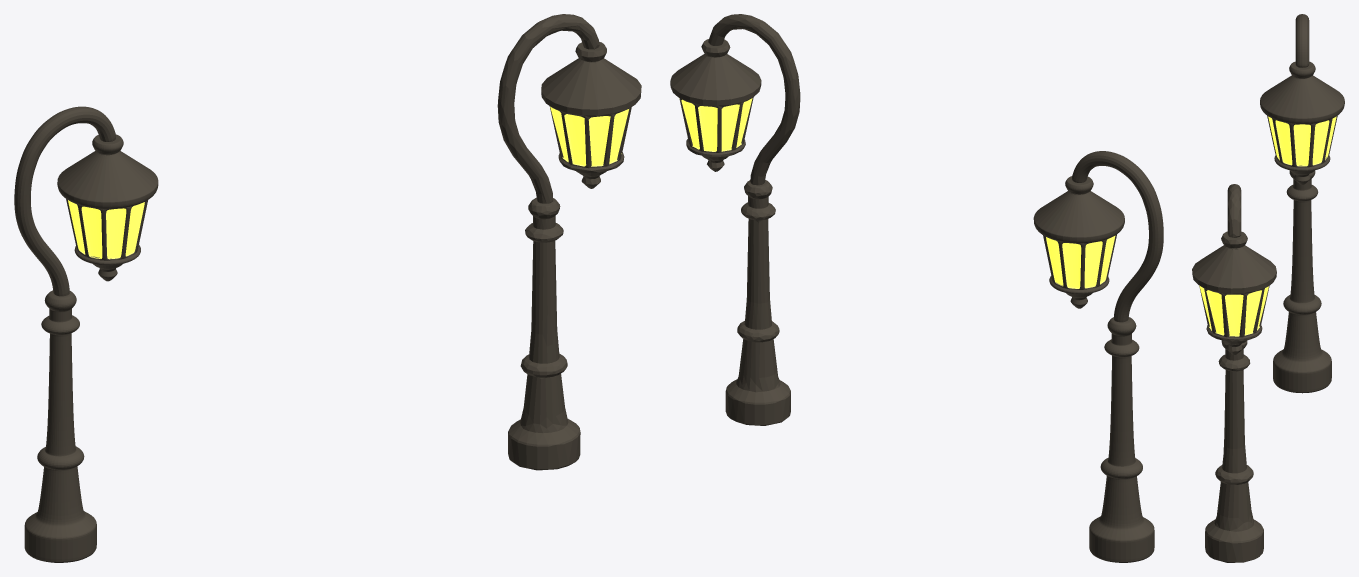
Rendered from stylized_street_lamp__low_poly_game_asset.glb.
3 renders of one model, left to right at view 1: azimuth 30°, elevation 25°; view 2: azimuth 150°, elevation 25°; view 3: azimuth 270°, elevation 25°, orthographic. The views are drawn at different scales.
Visible parts, largest first — view 1: lamp_1, stand.001_5, lamp.001_3, pole.001_4; view 2: lamp_1, stand.001_5, lamp.001_3, pole.001_4; view 3: lamp_1, stand.001_5, lamp.001_3, pole.001_4.
Boxes of the visible parts, x1,y1,x2,y2 form: lamp_1: (497, 14, 641, 470); stand.001_5: (24, 290, 96, 562); lamp.001_3: (57, 134, 158, 281); pole.001_4: (14, 106, 115, 296); lamp_1: (670, 14, 800, 425); stand.001_5: (1089, 317, 1154, 562); lamp.001_3: (1033, 176, 1124, 308); pole.001_4: (1072, 151, 1163, 322); lamp_1: (1192, 184, 1276, 562); stand.001_5: (1273, 170, 1331, 393); lamp.001_3: (1260, 61, 1344, 184); pole.001_4: (1295, 14, 1309, 67).
Bounding box in the file's own units: 5.95 × 4.44 × 1.62.
